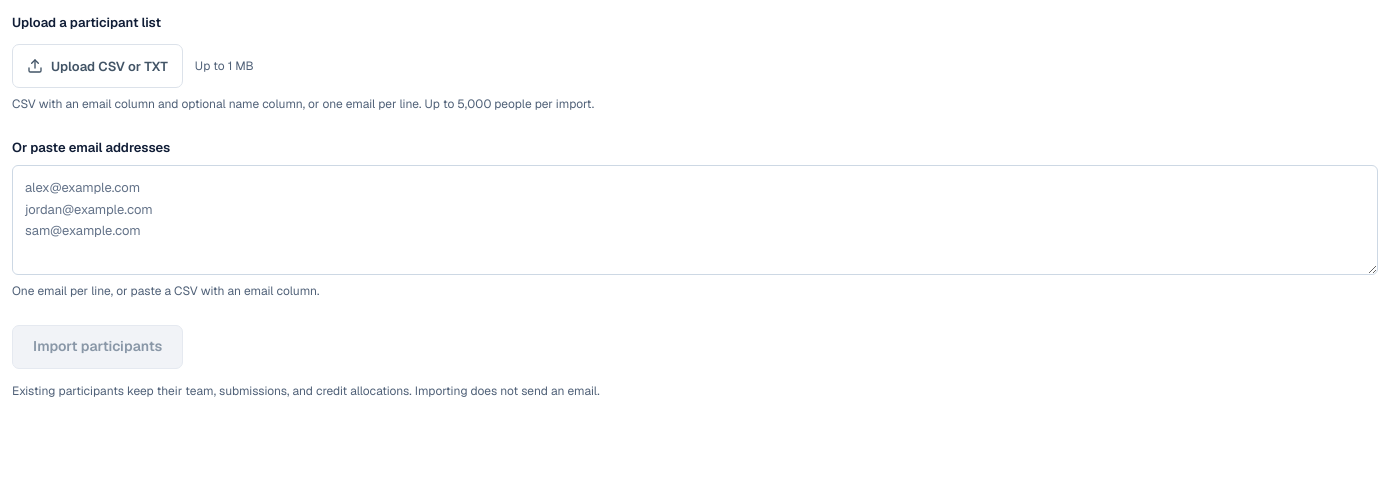
Scenario: participant imports › keeps import available if the duplicate preview is temporarily unavailable
This screenshot has width=1390, height=480.
Type "person@example.org" into the text box at [695, 220], box [12,165,1378,275]
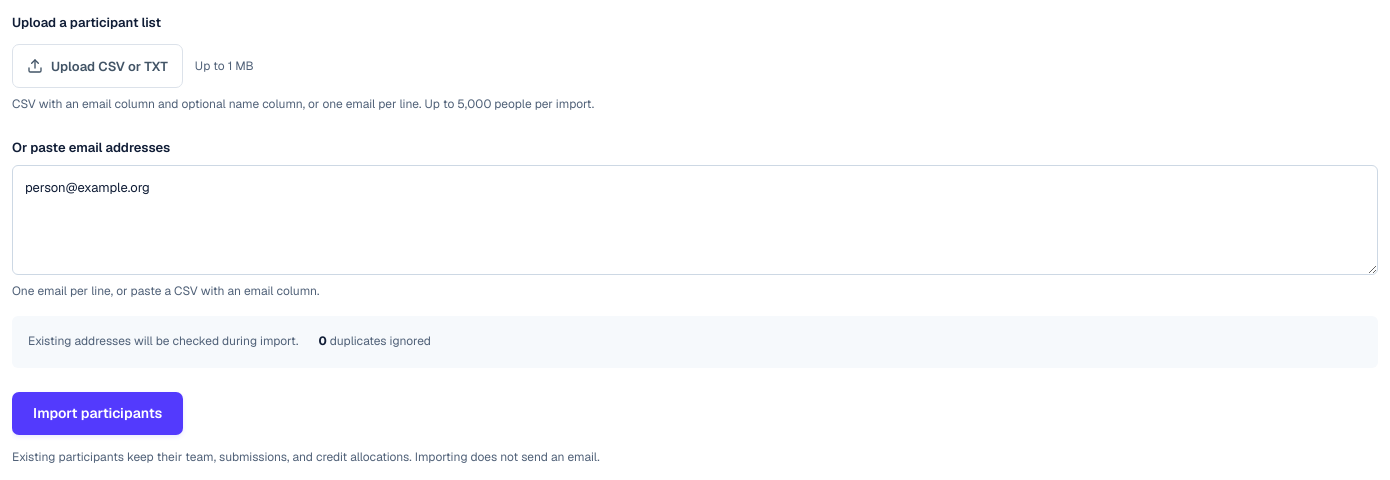
Check: the text "Existing addresses will be checked during import." is shown, box [28,332,298,352]
Check: the button "Import participants" is enabled, box [12,392,183,435]
